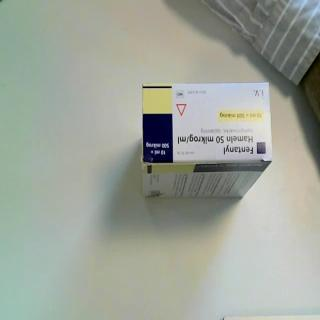fentanyl50ug_ml: (140, 80, 274, 203)
